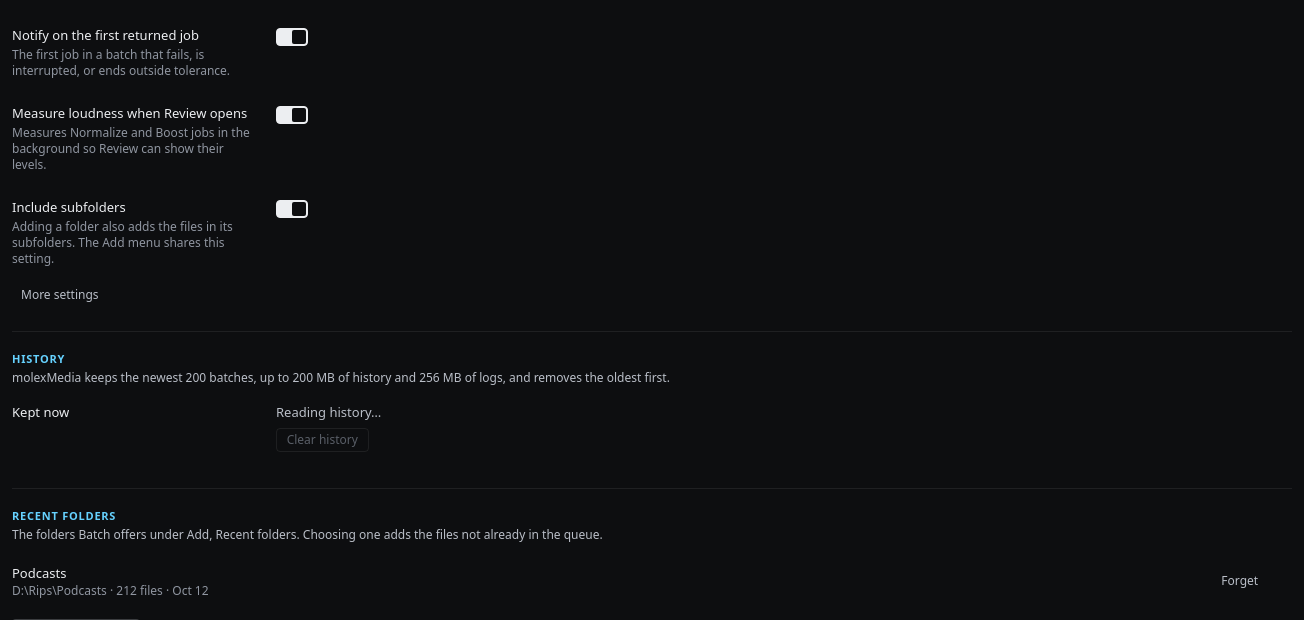
Test: BatchSettings › shows priority and GPU sessions under More settings
(page scrolled)
Expected: the dropdown labelled "Process priority" is not shown
Click the button "More settings" at (60, 295), box [12, 283, 108, 307]
(page scrolled)
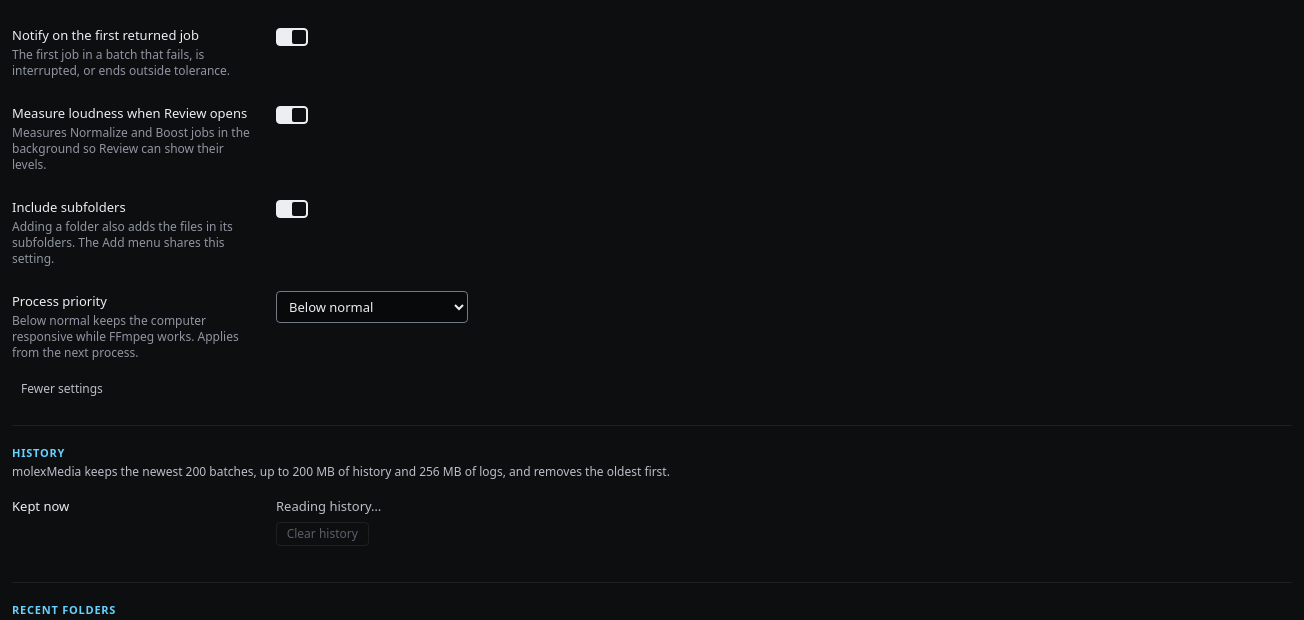
Select "Normal" in the dropdown labelled "Process priority" at (372, 307), box [276, 291, 468, 323]
(page scrolled)
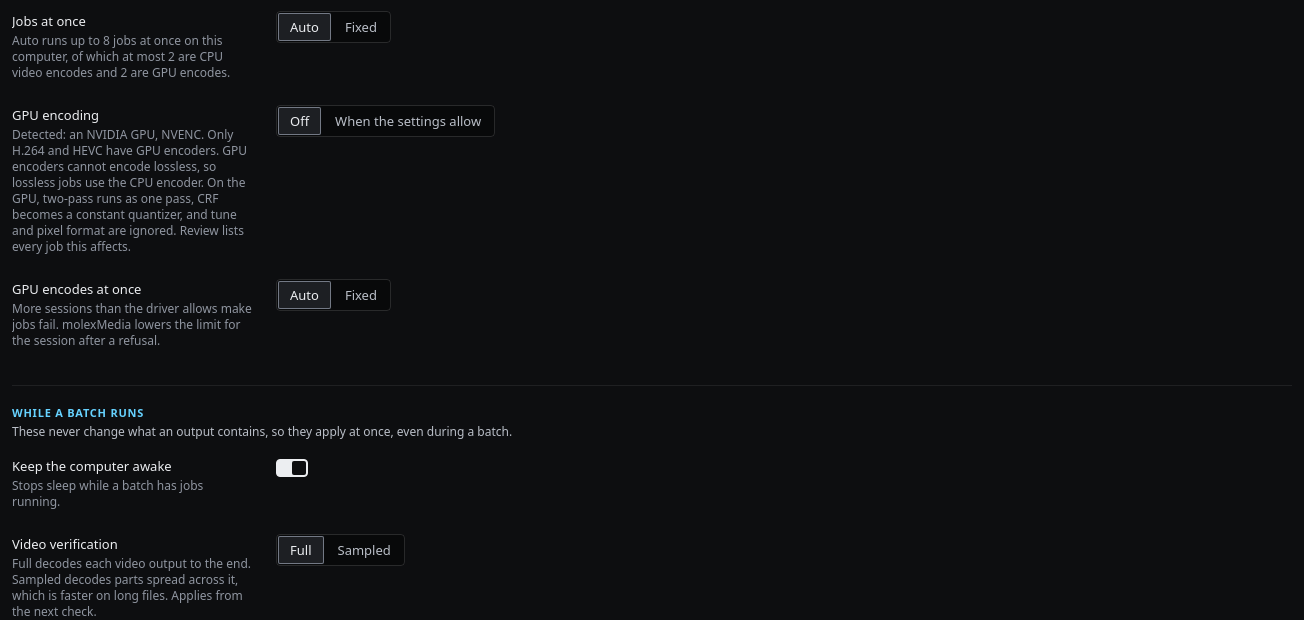
Click the radio button labelled "Fixed" in the row of "GPU encodes at once" at (361, 295), box [333, 281, 389, 309]
(page scrolled)
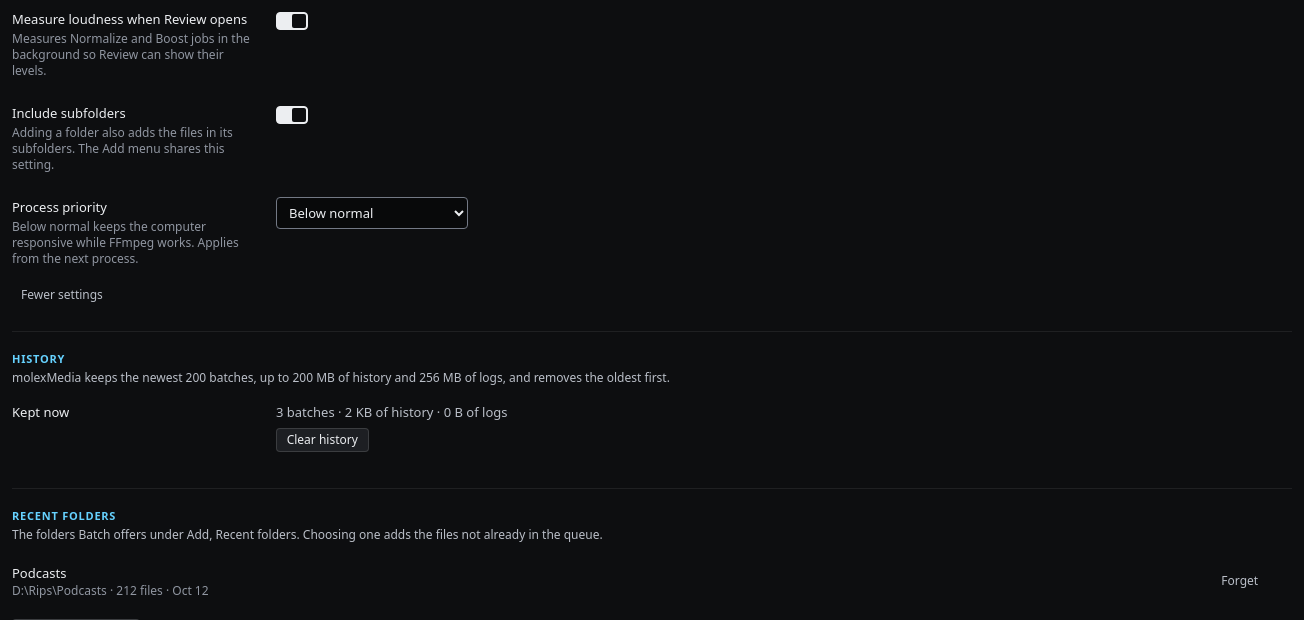
Click the button "Fewer settings" at (62, 295), box [12, 283, 112, 307]
(page scrolled)
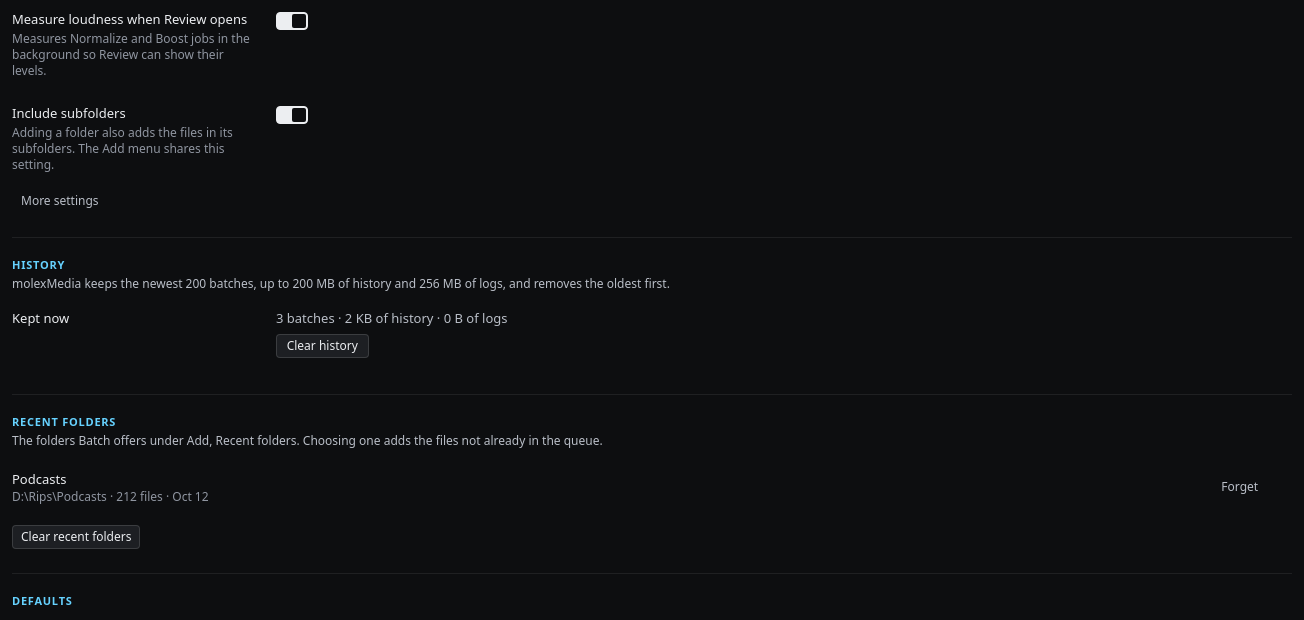
Now the label "Process priority" is gone
